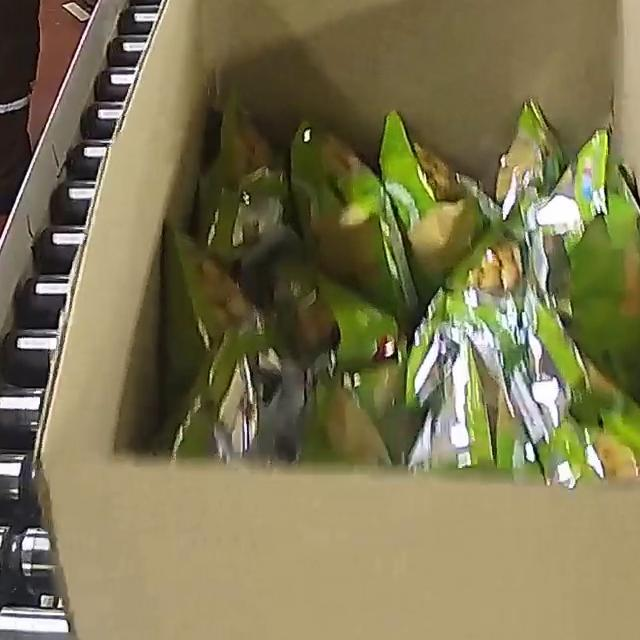yogurt: (157, 81, 640, 488)
